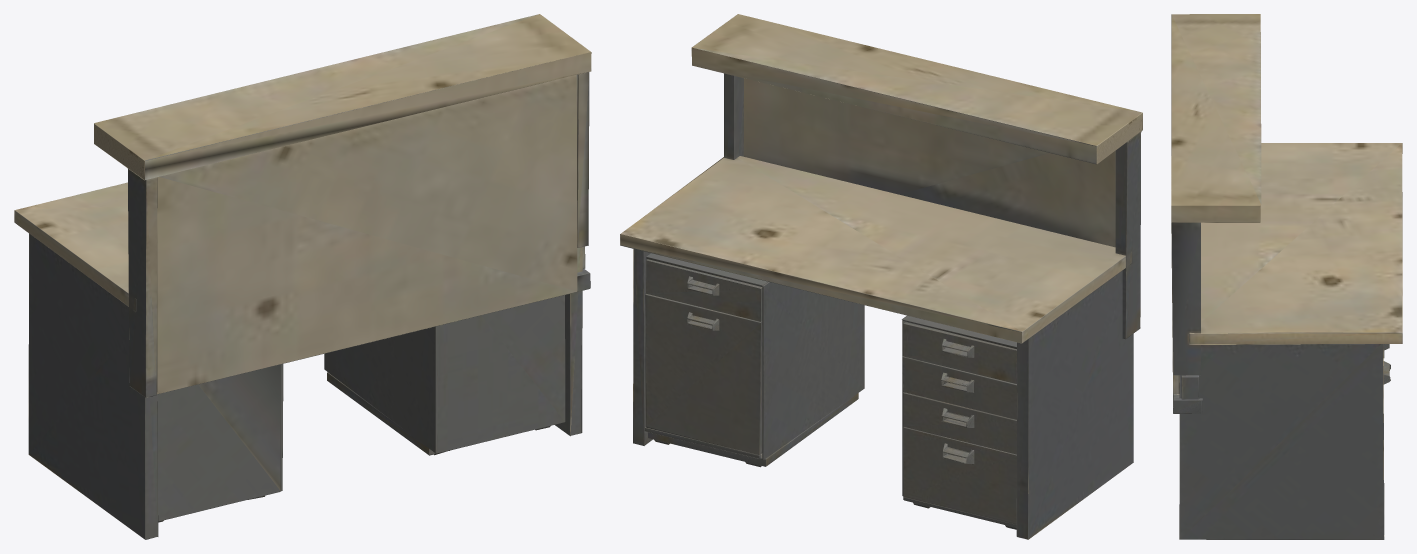
The model's file is office-office-desk.glb.
3 views of the same model, side by side, from view 1: azimuth 30°, elevation 25°; view 2: azimuth 150°, elevation 25°; view 3: azimuth 270°, elevation 25° (orthographic). The views are drawn at different scales.
Parts seen in each view (by area): view 1: office-desk; view 2: office-desk; view 3: office-desk.
Boxes of the visible parts, left/top/right/bottom form: office-desk: left=14, top=14, right=591, bottom=539; office-desk: left=620, top=14, right=1142, bottom=539; office-desk: left=1171, top=14, right=1402, bottom=539.
Bounding box in the file's own units: 1.5 × 1.23 × 0.7661.
Materials: 1 (1 with a texture image).
